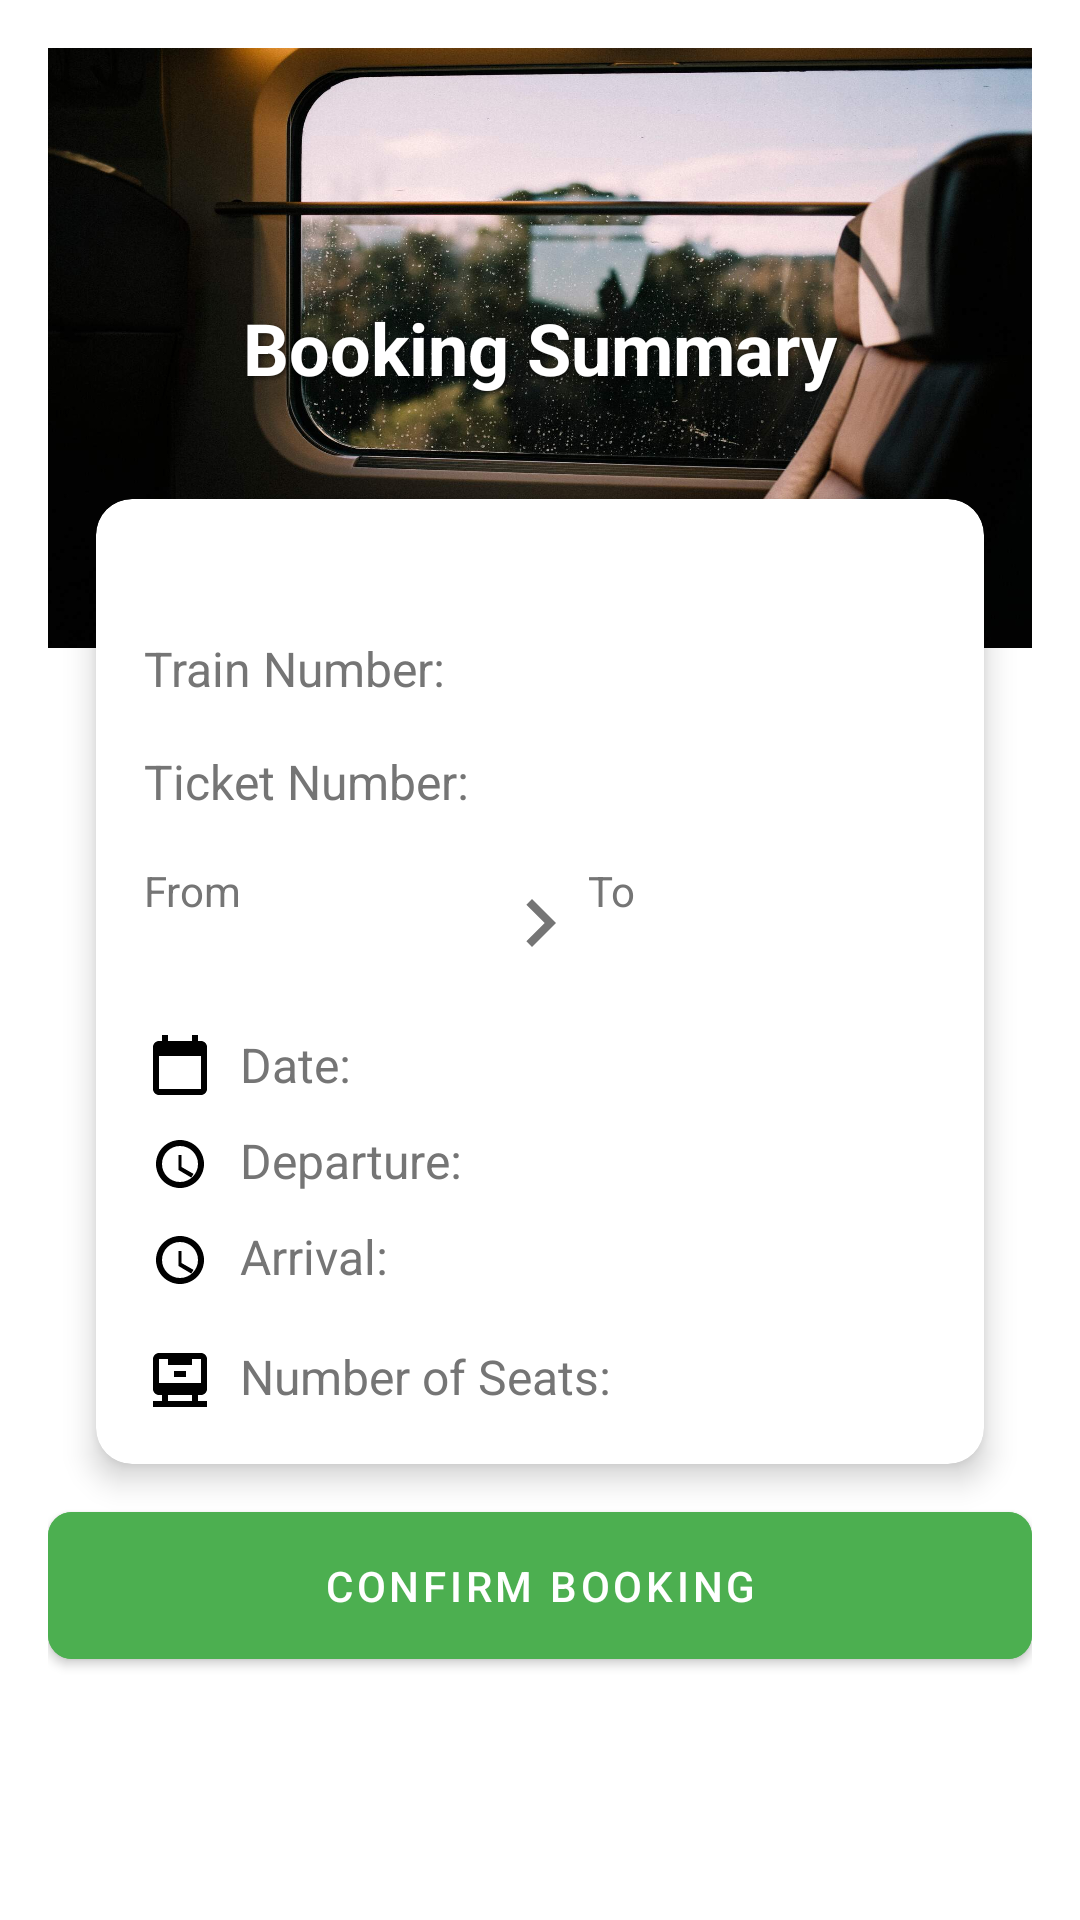

Locate icon controls on the screen. Image size 1080px×1920px, boxes as [x1=x1, y1=y1, x2=x2, y2=y2].
arrow right: [x1=526, y1=899, x2=556, y2=947]
